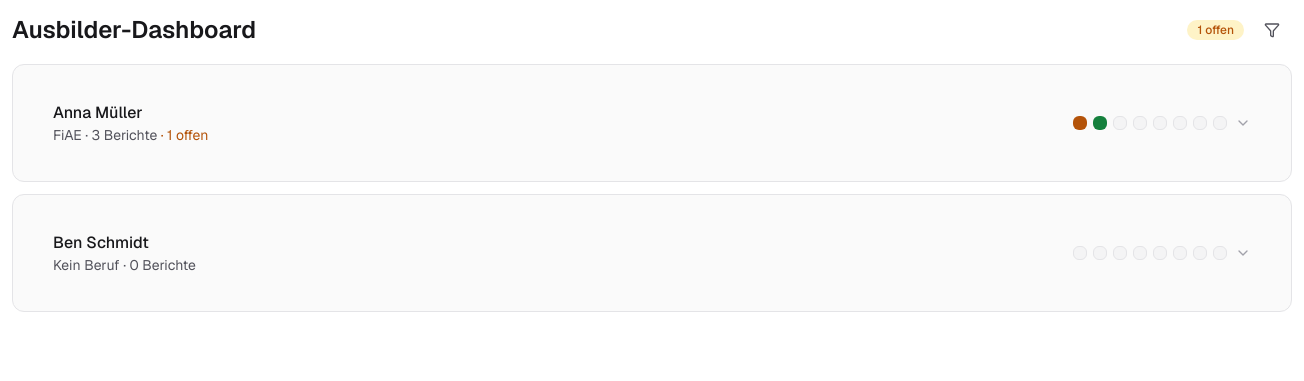
Test: ReviewerDashboardClient › toggles filter panel
Expected: the text "Eingereicht" is not shown
Click the button named "Filter ein-/ausblenden". click: (1272, 30)
box: [1252, 12, 1292, 48]
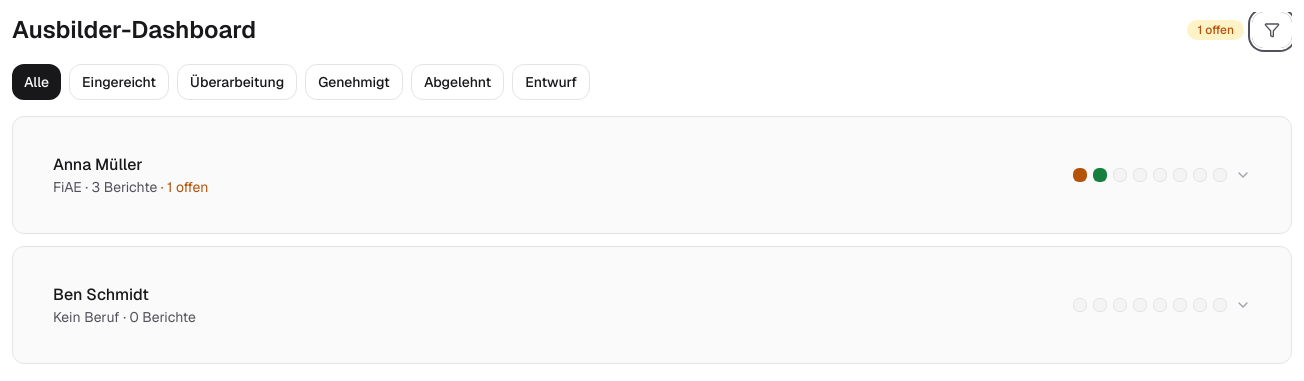
Expected: the button "Eingereicht" is shown, [69, 64, 169, 100]
Expected: the button "Alle" is shown, [12, 64, 61, 100]
